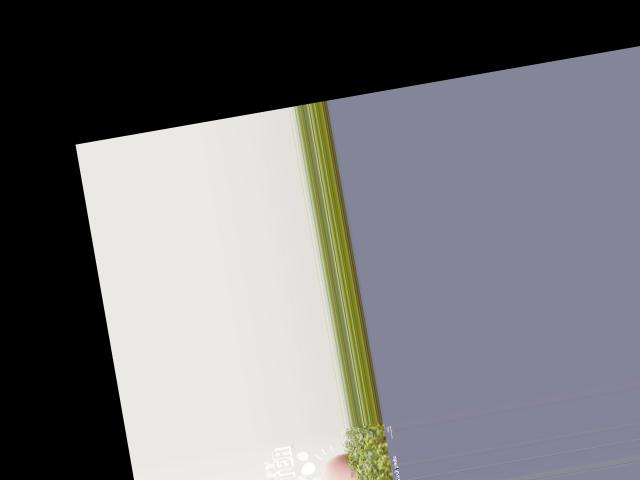egg: (319, 450, 359, 480)
